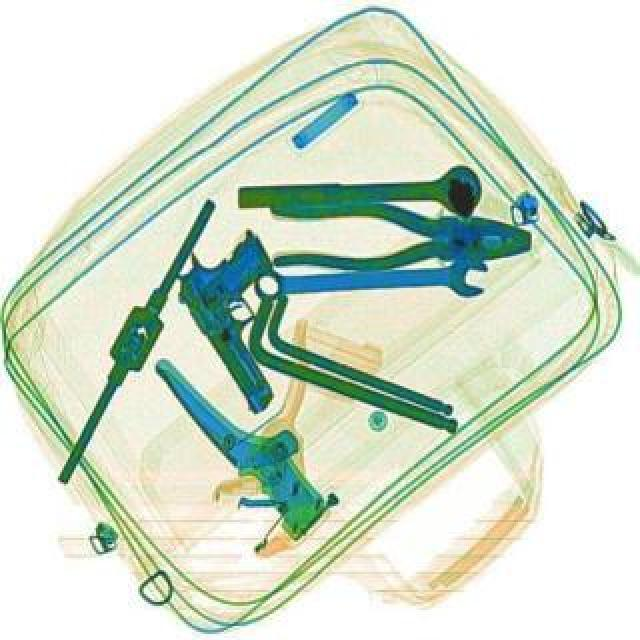gun: (158, 220, 340, 412)
scissors: (252, 248, 488, 304)
wrench: (264, 194, 532, 276)
